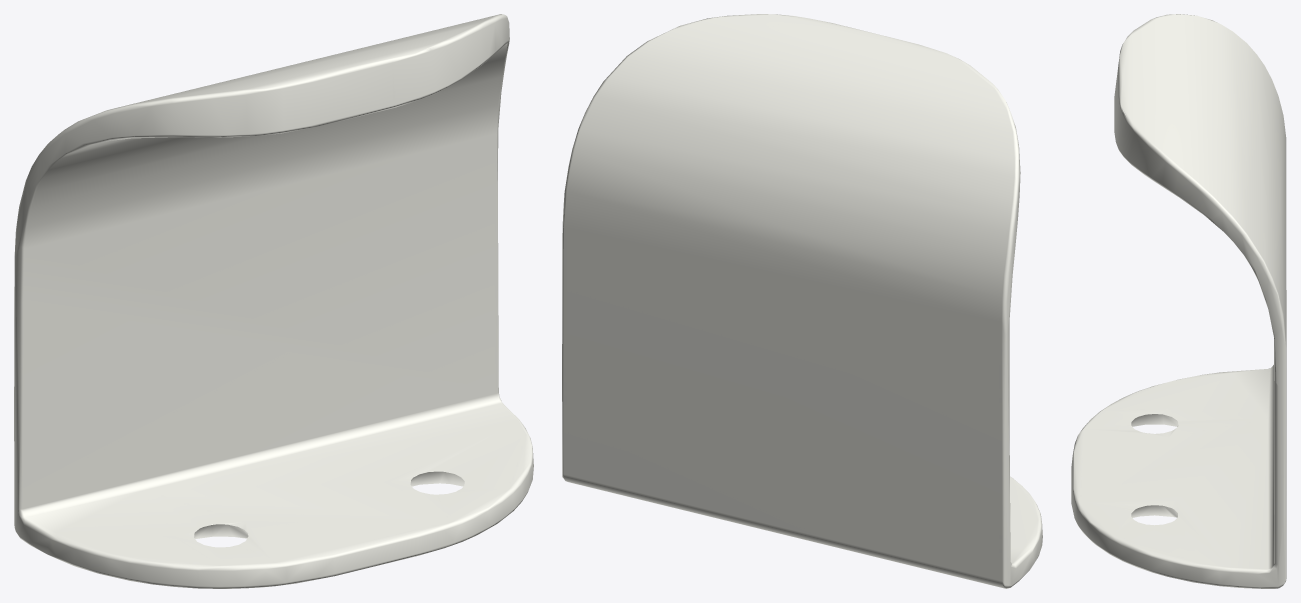
Rendered from billsbro_uchwyt_20334314.glb.
3 renders of one model, left to right at view 1: azimuth 30°, elevation 25°; view 2: azimuth 150°, elevation 25°; view 3: azimuth 270°, elevation 25°, orthographic. The views are drawn at different scales.
Parts seen in each view (by area): view 1: billsbro_uchwyt_20334314; view 2: billsbro_uchwyt_20334314; view 3: billsbro_uchwyt_20334314.
Boxes of the visible parts, <box> form: billsbro_uchwyt_20334314: <box>14,14,533,588</box>; billsbro_uchwyt_20334314: <box>562,14,1042,588</box>; billsbro_uchwyt_20334314: <box>1071,14,1286,588</box>.
Bounding box in the file's own units: 1.02 × 0.9649 × 0.4563.
Materials: 1 (1 with a texture image).
